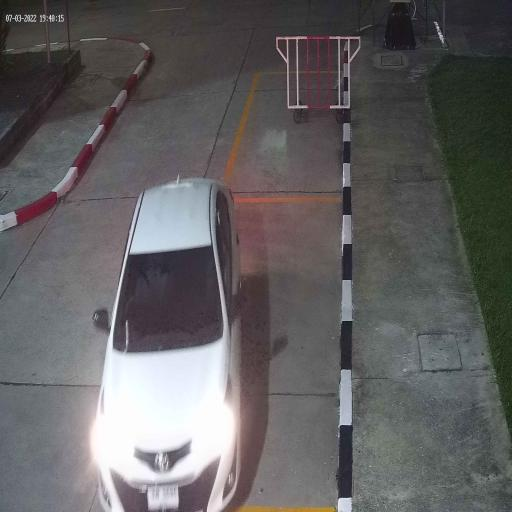car: (95, 176, 241, 512)
